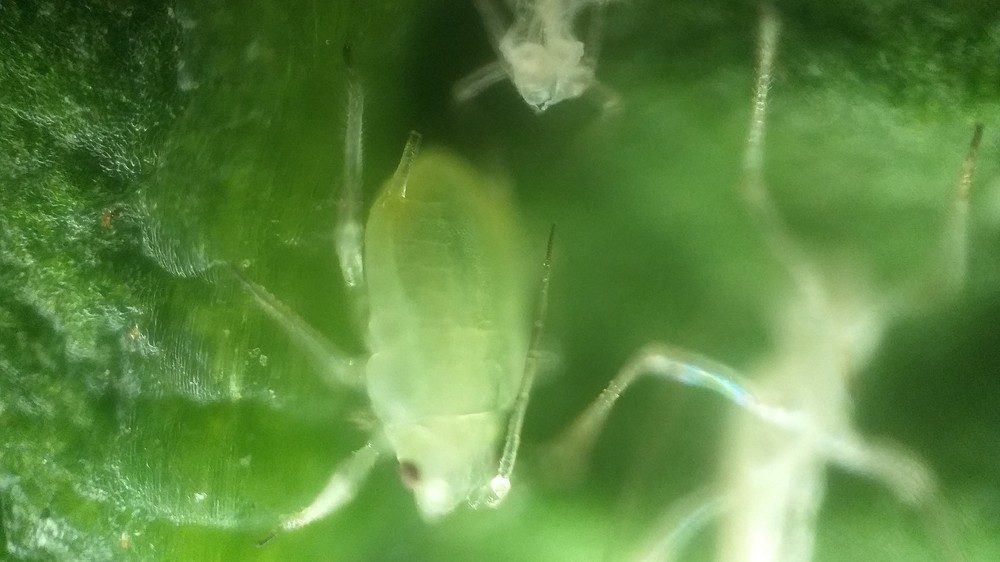Pulgon: (232, 80, 594, 554)
